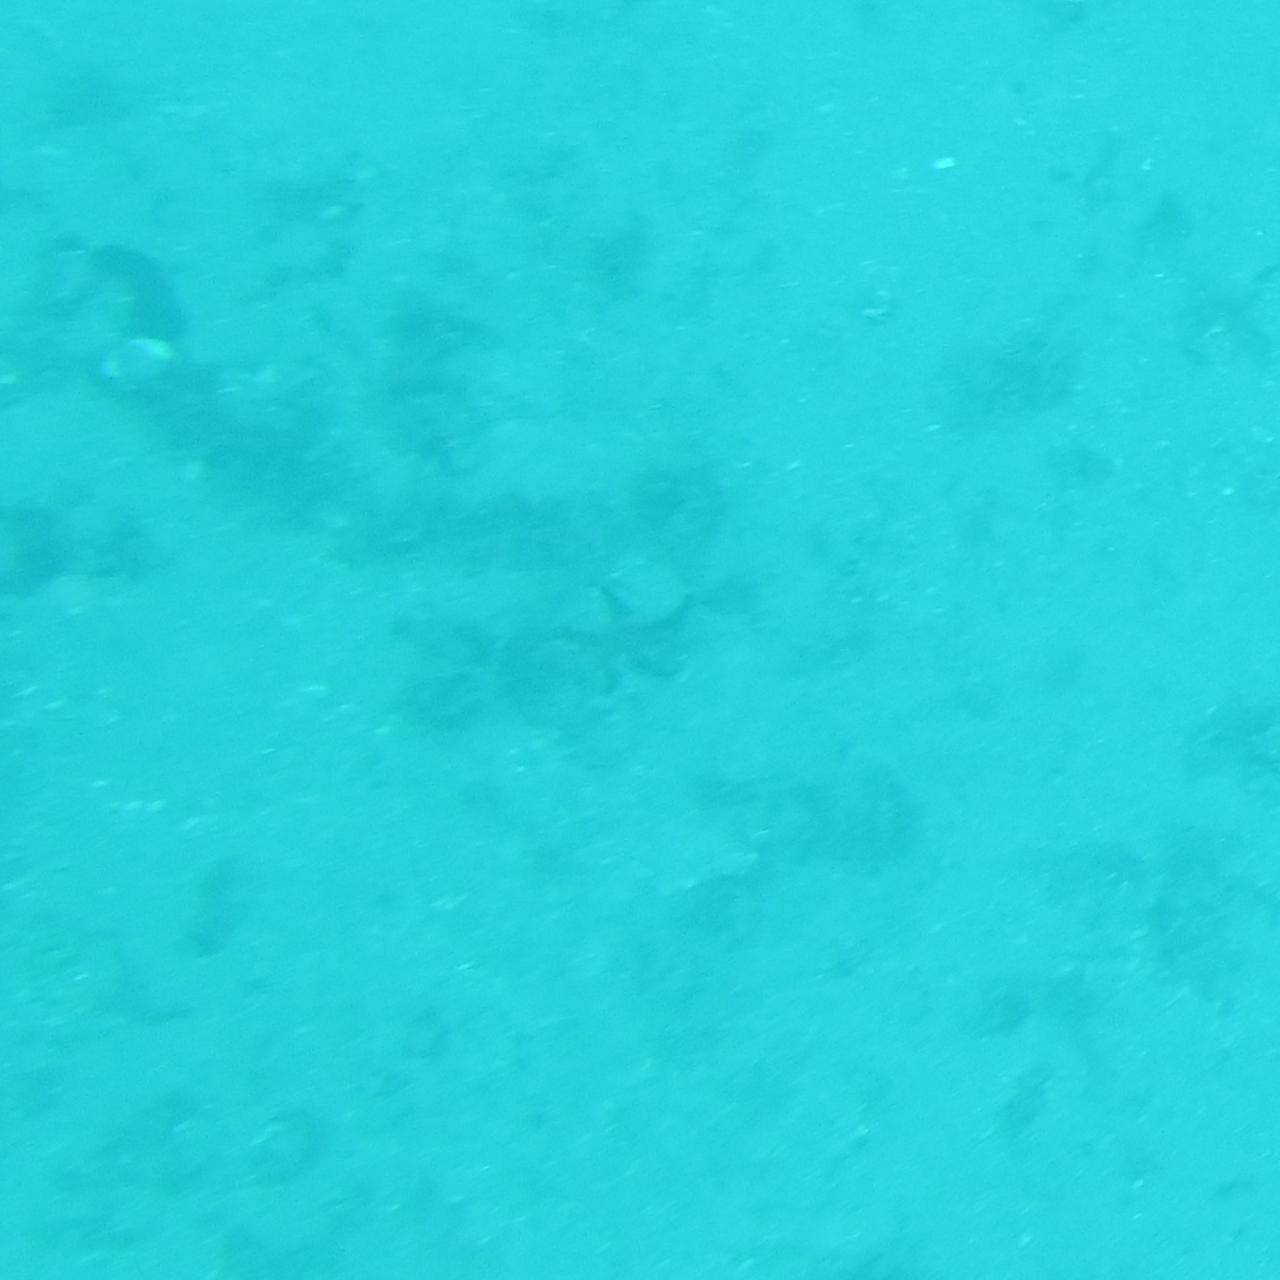Asteroidea: (560, 578, 720, 702)
